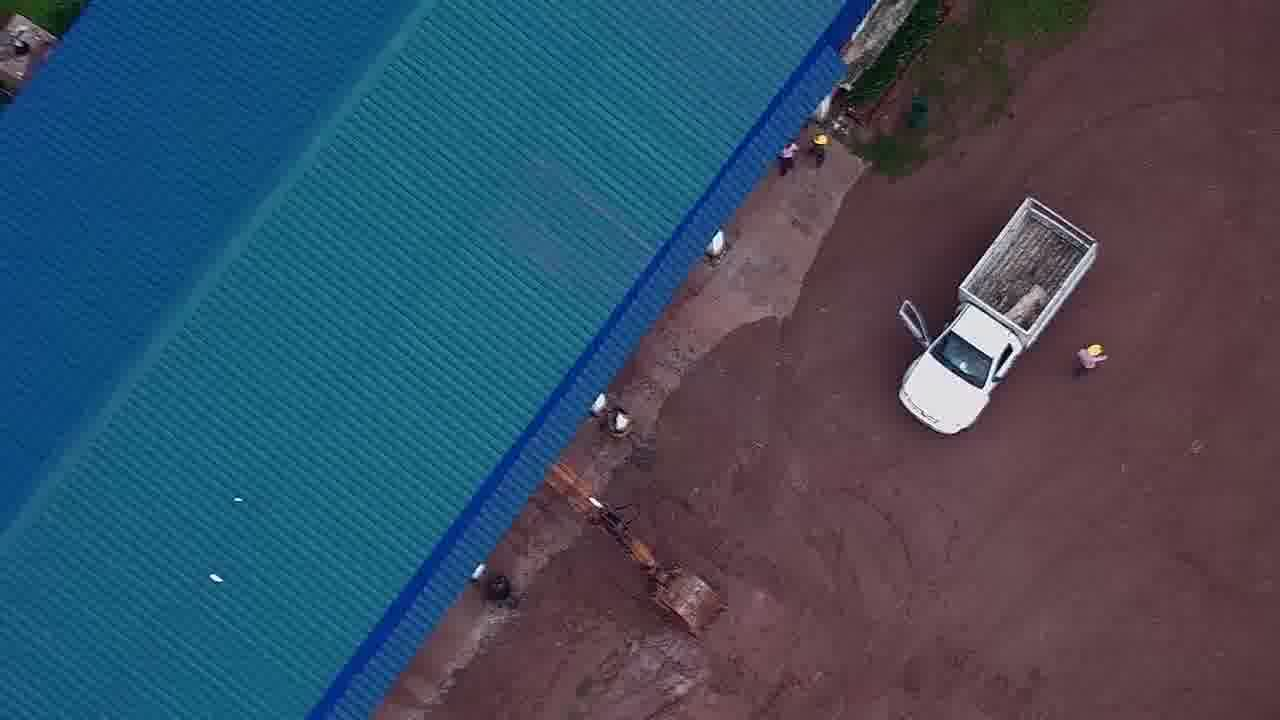light_motor_vehicle: (896, 193, 1100, 436)
person: (1074, 335, 1116, 389), (777, 139, 804, 181), (813, 128, 832, 172)
